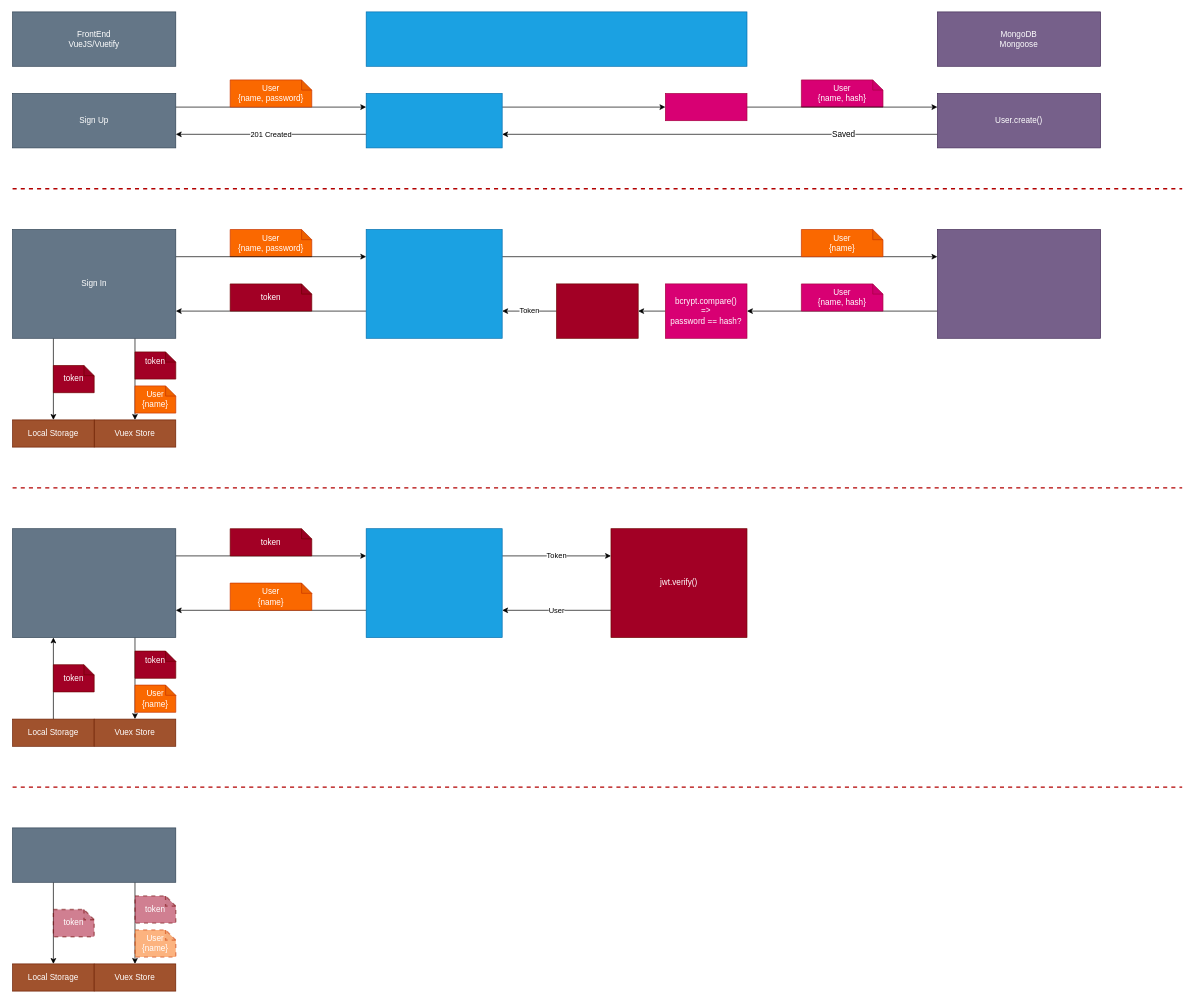
Some shapes in this 1195 by 1003 pixel diagram are drawn without their labels. Each missing label, with the centre of its shape:
"/api/auth/me" goes at [434,583].
"/api/auth/sign-in Verify username & password => Token" goes at [434,283].
"/api/auth/sign-up Check if user is already registered" goes at [434,120].
"BackEnd API NodeJS/Express" goes at [556,38].
"bcrypt.hash() password => hash" goes at [706,107].
"F5 Refresh Or Re-open Browser" goes at [94,583].
"jwt.sign(KEY) => Token" goes at [597,310].
"Sign Out" goes at [94,854].
"User.findOne()" goes at [1019,283].
